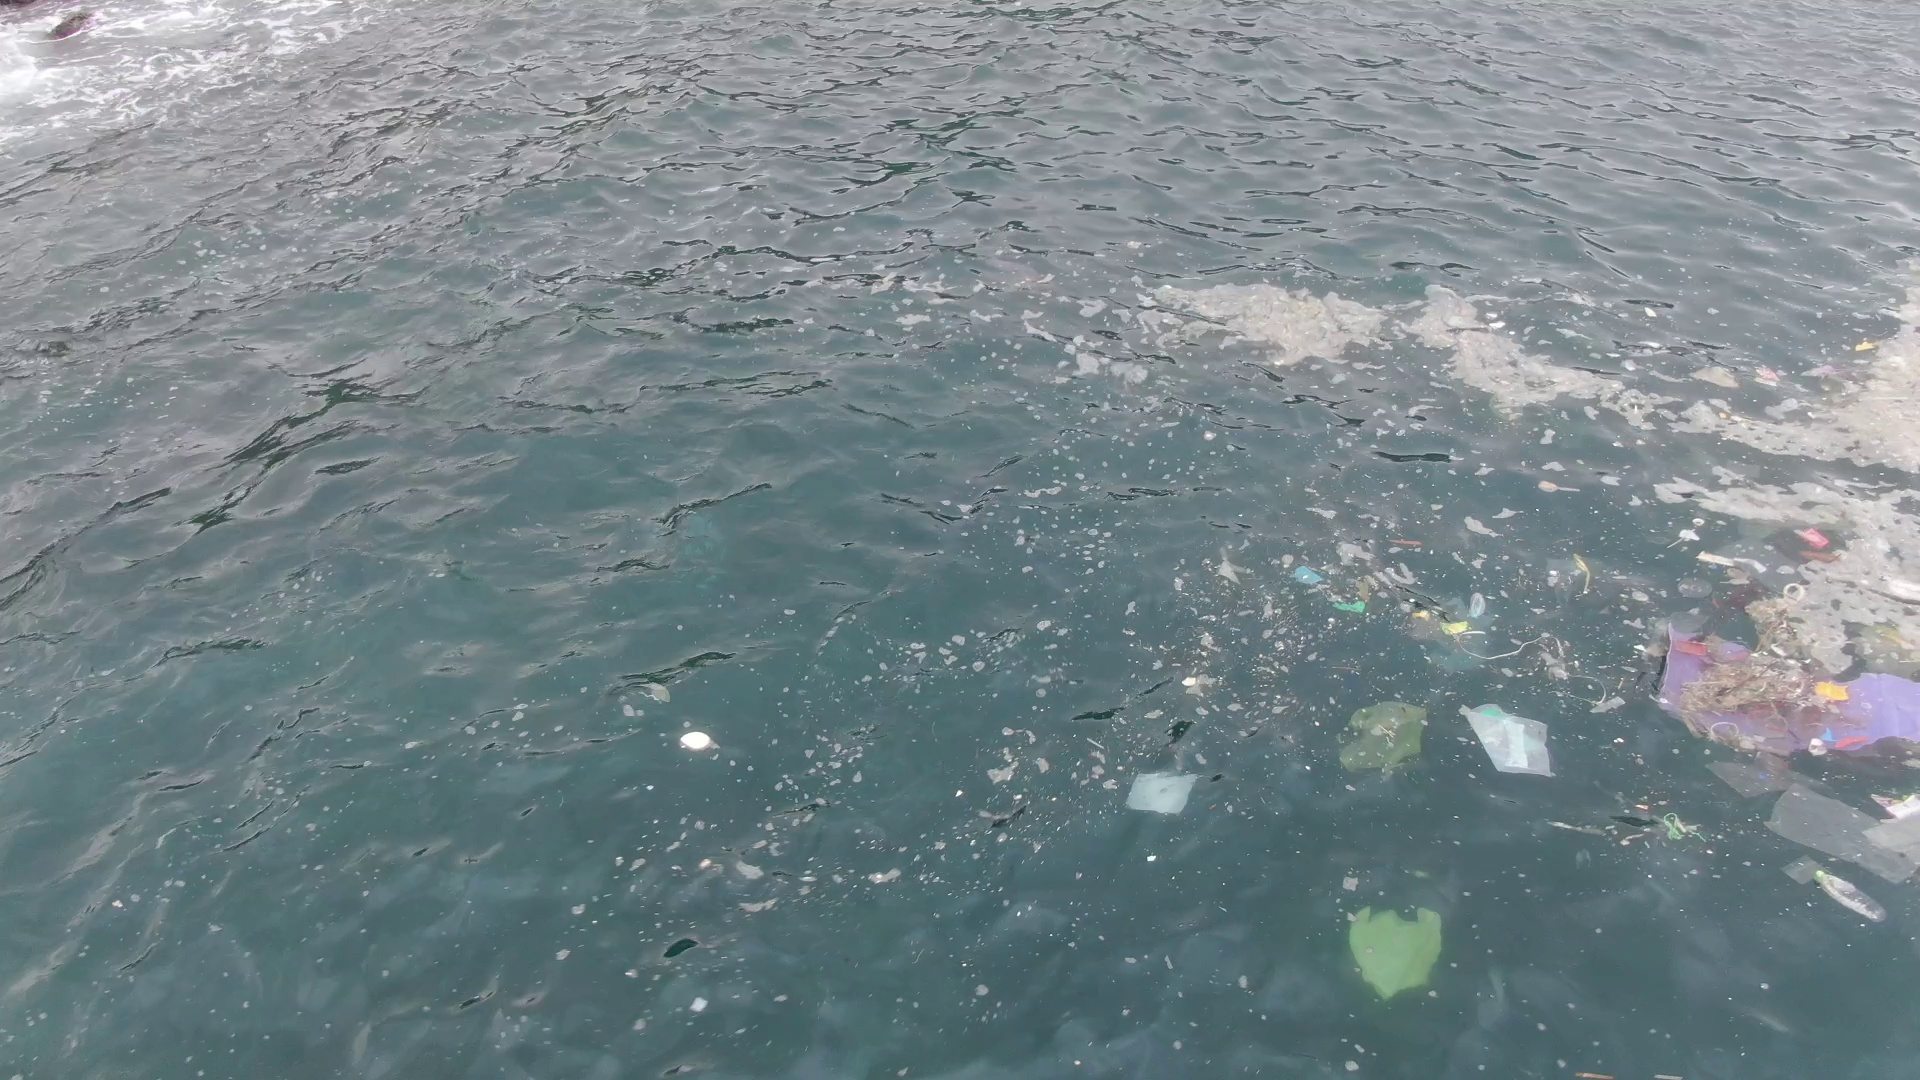bottle: (1818, 870, 1887, 926)
garbage: (1662, 583, 1920, 757), (1712, 765, 1920, 884), (1458, 630, 1607, 702), (1350, 909, 1443, 997), (1461, 704, 1552, 779), (1342, 702, 1427, 771), (1124, 770, 1195, 815), (1662, 810, 1705, 843), (682, 731, 713, 754), (1575, 554, 1590, 595), (1538, 479, 1580, 493), (1294, 564, 1324, 584), (1756, 365, 1780, 386), (1331, 599, 1365, 612), (1391, 538, 1423, 546)
